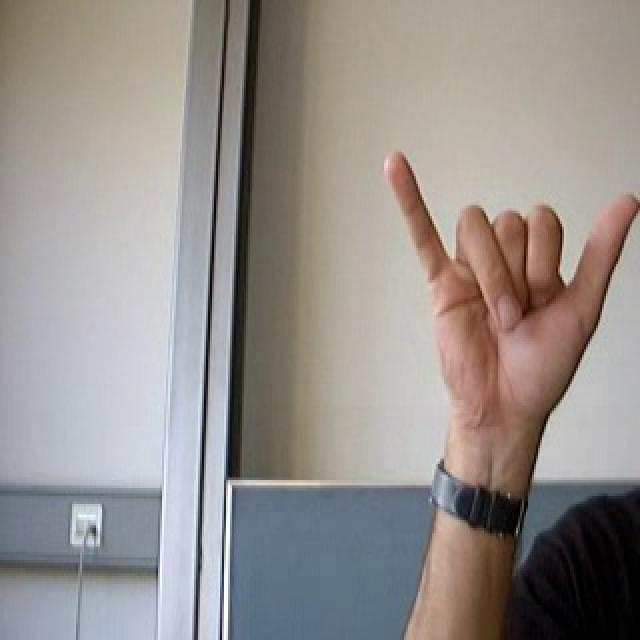Y: (370, 141, 640, 440)
